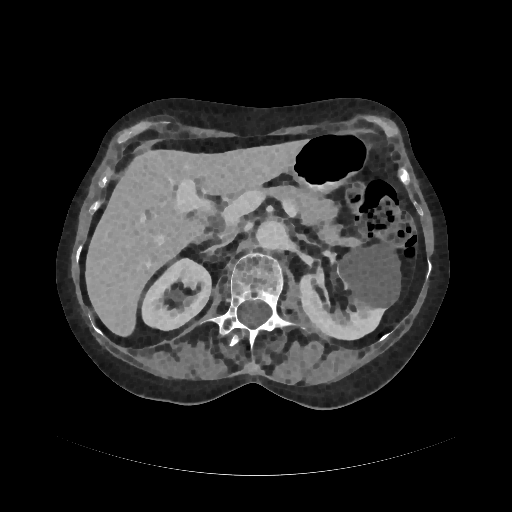Lesion: (331, 235, 403, 309)
